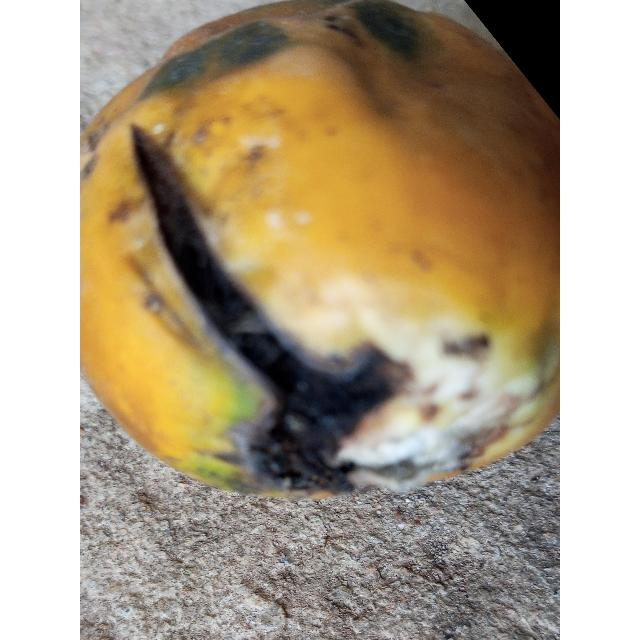damaged: (80, 0, 560, 499)
